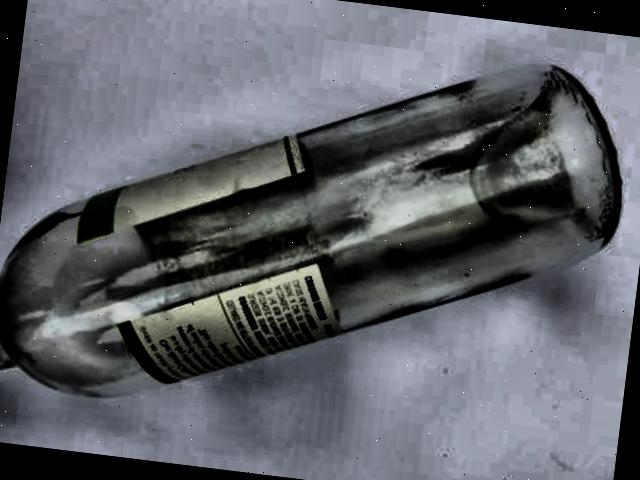Bottles: (0, 0, 640, 458)
